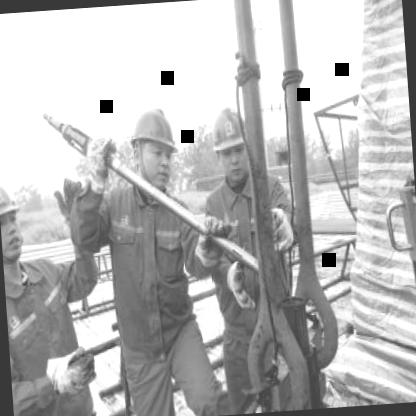helmet: (123, 98, 182, 192), (207, 99, 251, 192), (0, 173, 27, 262)
